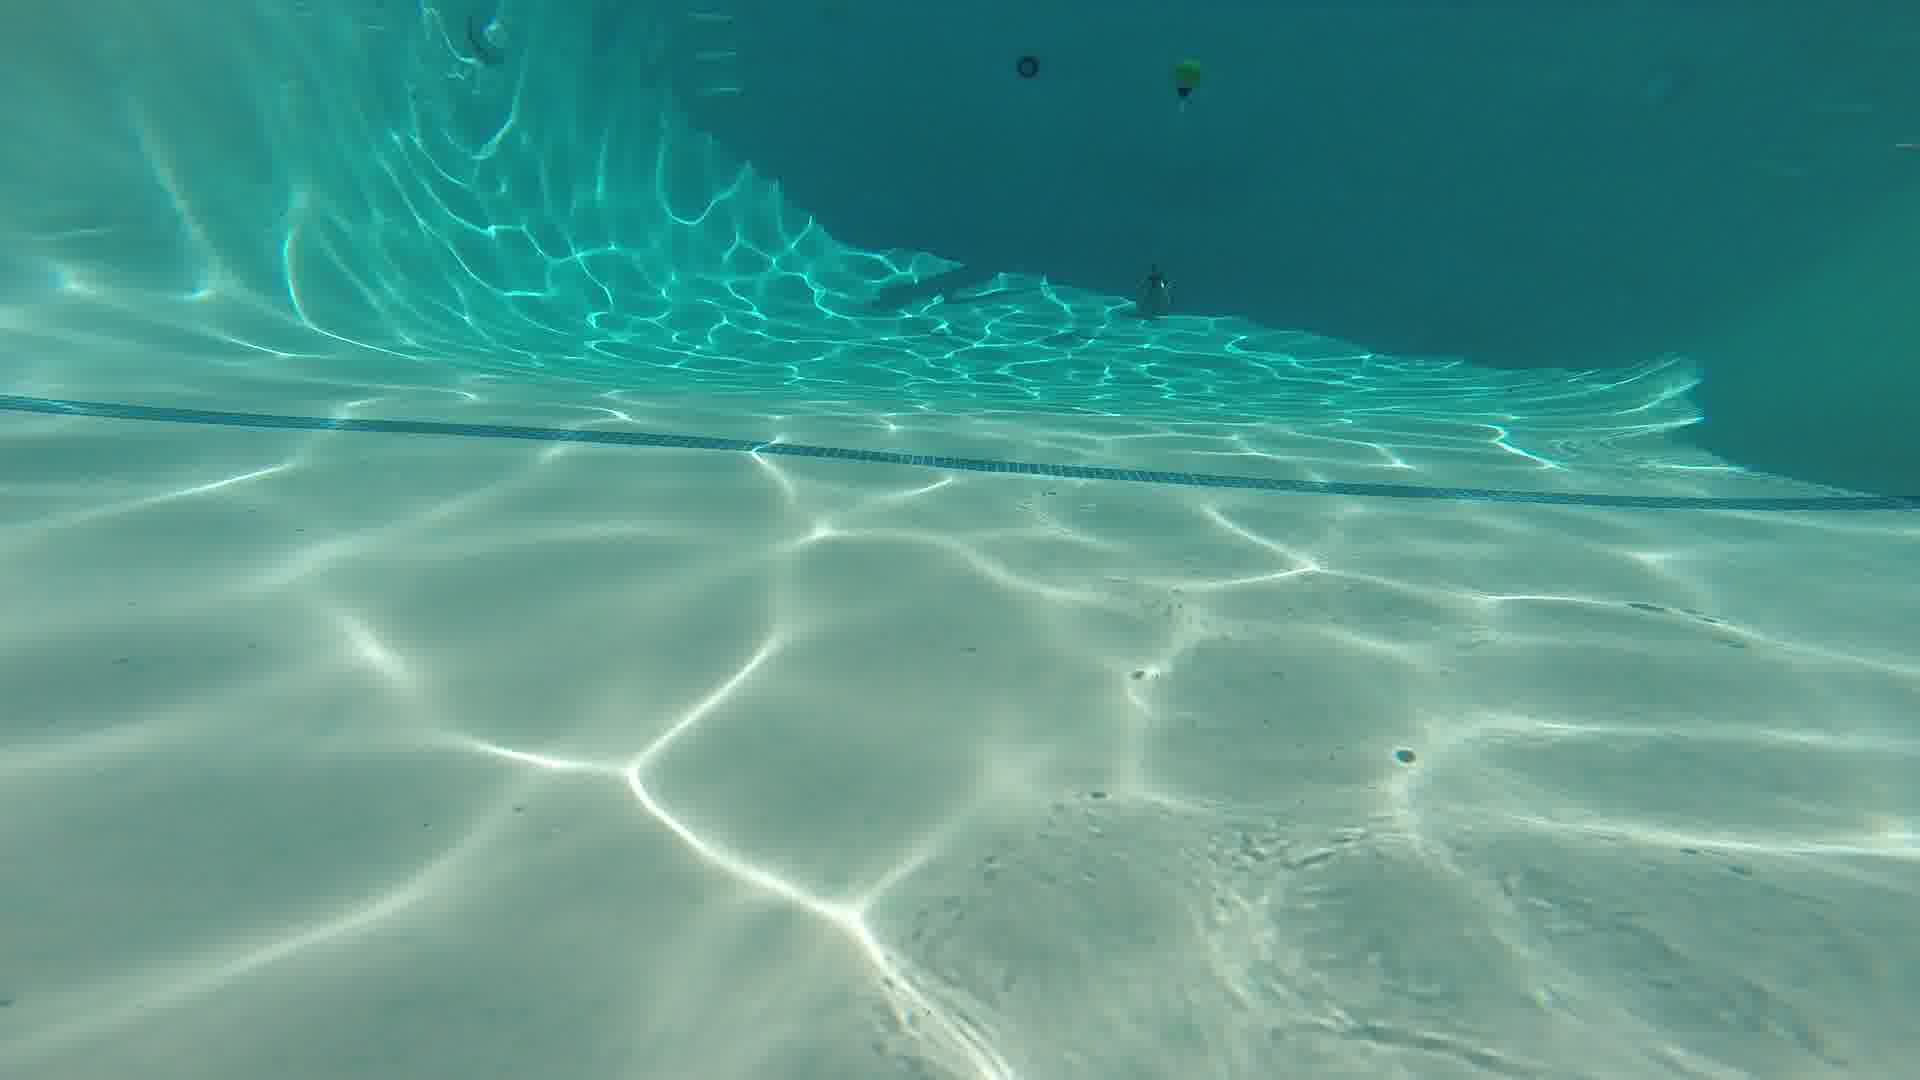yellow_buoy: (1164, 50, 1204, 107)
